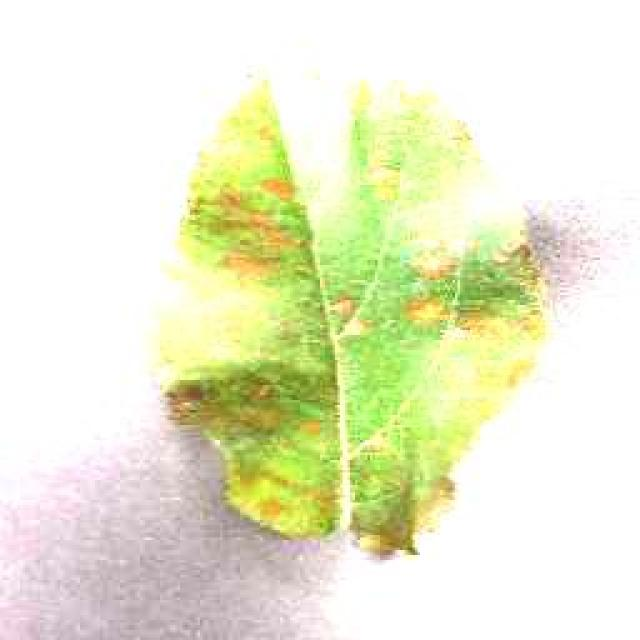apple healthy: (150, 68, 558, 558)
